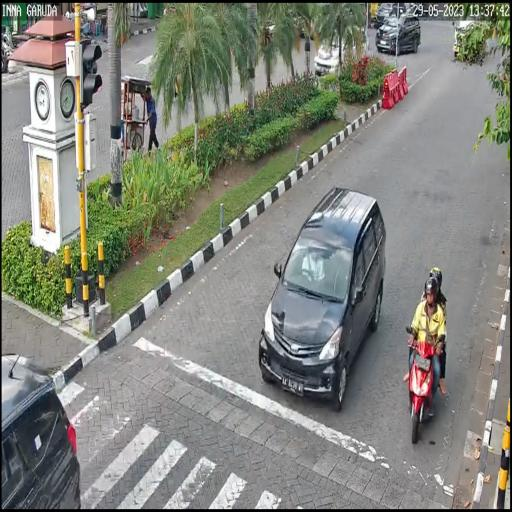mobil: (260, 188, 386, 406)
motor: (403, 324, 443, 440)
